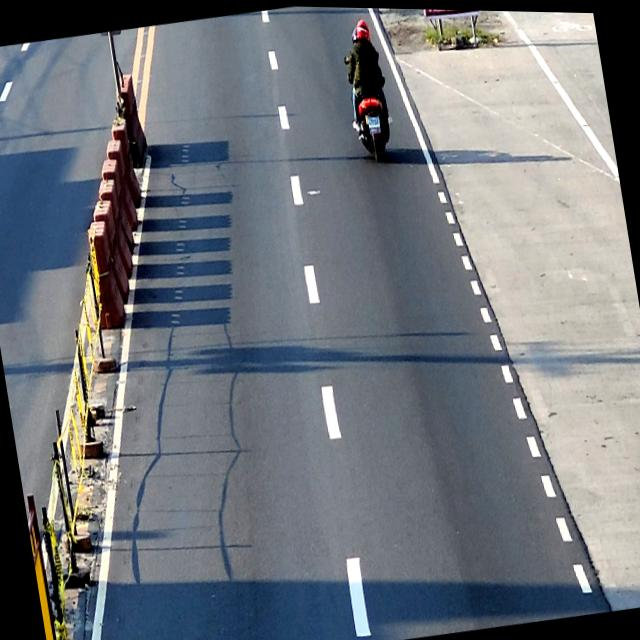License-Plate: (367, 114, 381, 128)
Motorcycle: (344, 49, 395, 164)
